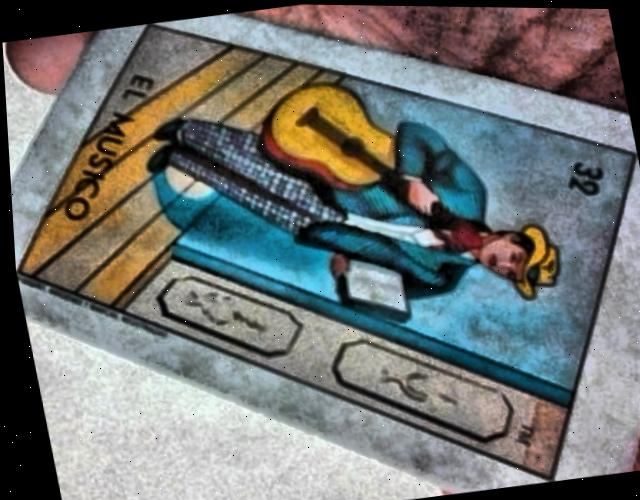El Musico: (21, 24, 635, 479)
